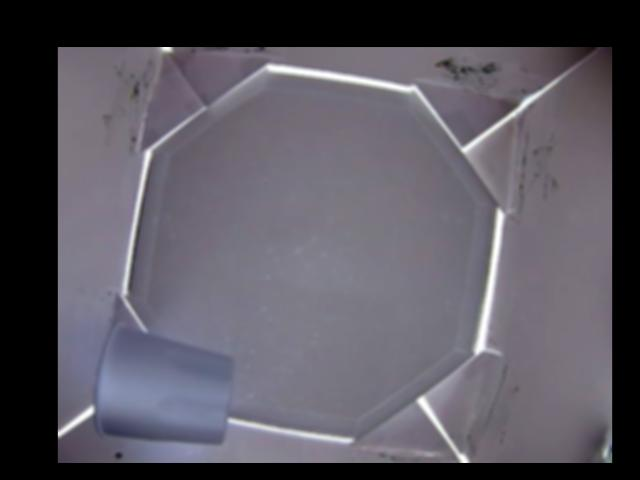Cup: (91, 323, 237, 444)
